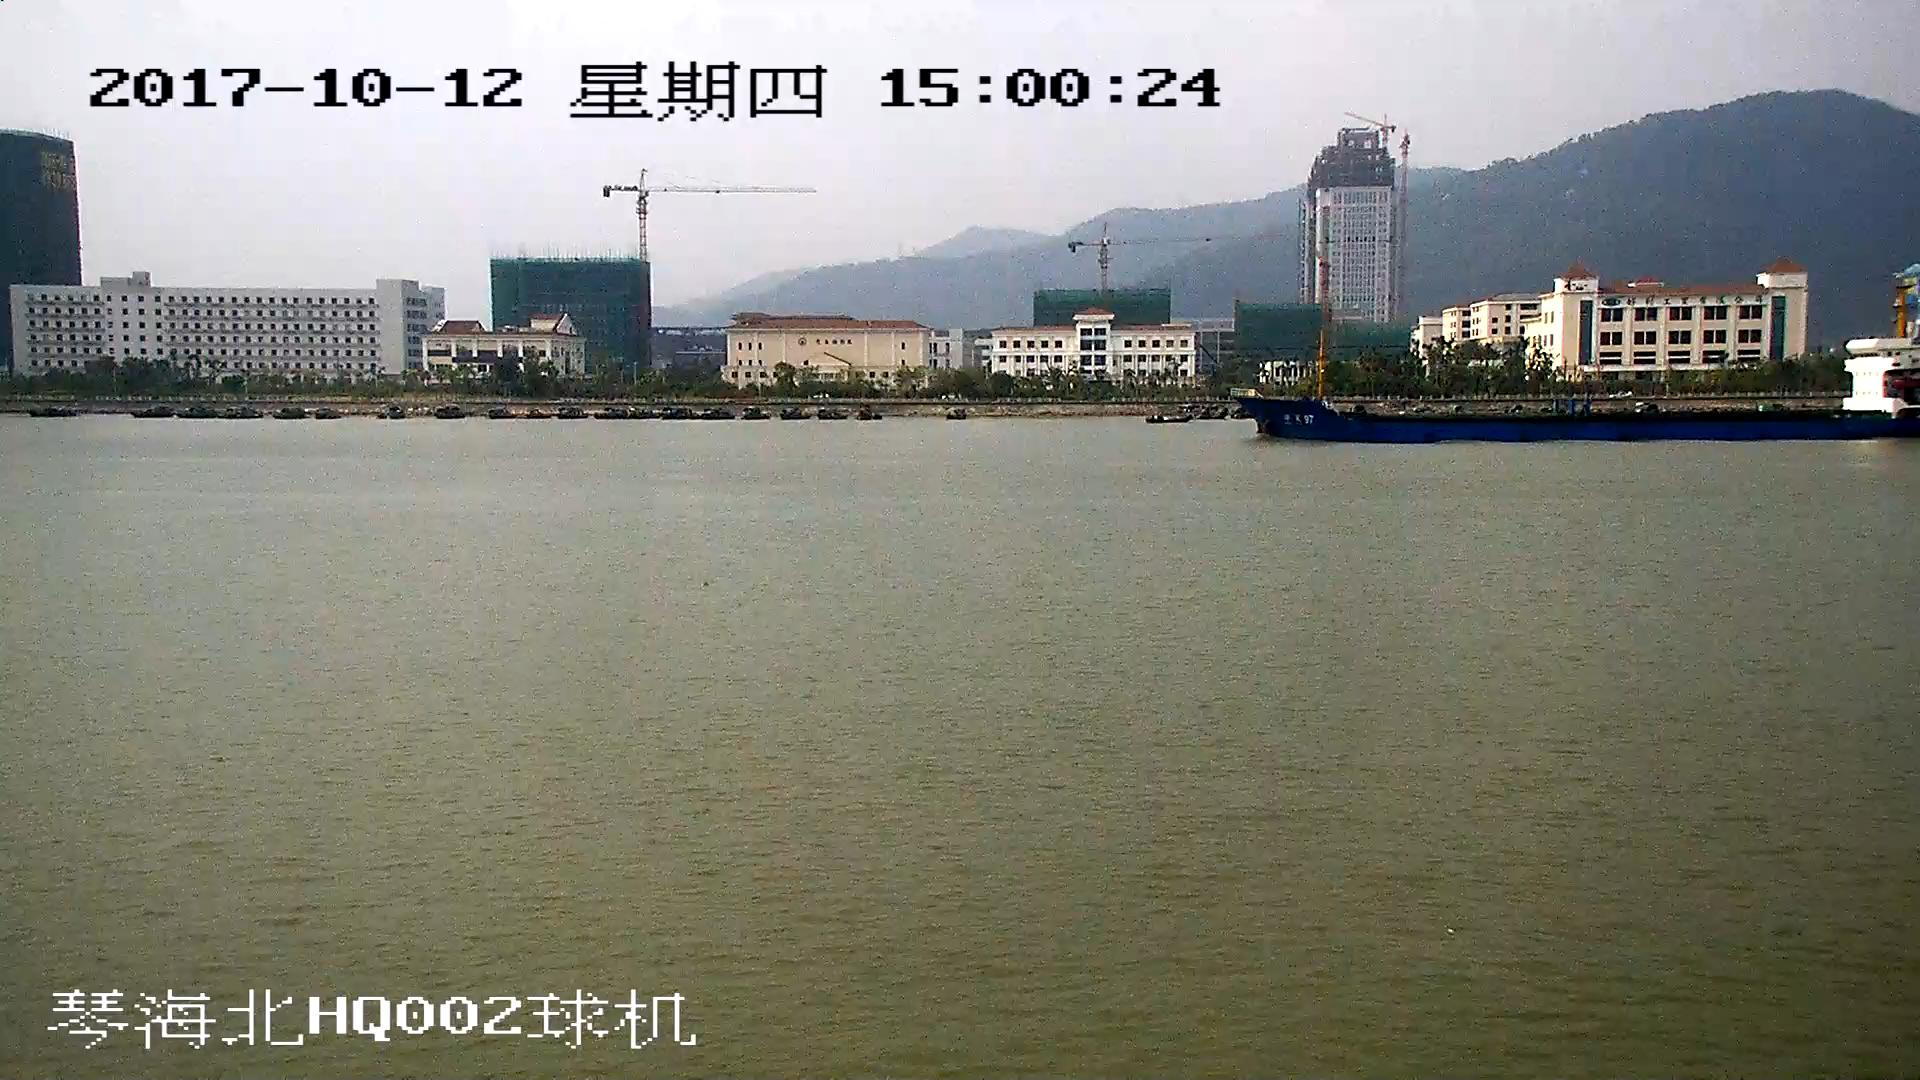general cargo ship: (1233, 311, 1920, 443)
